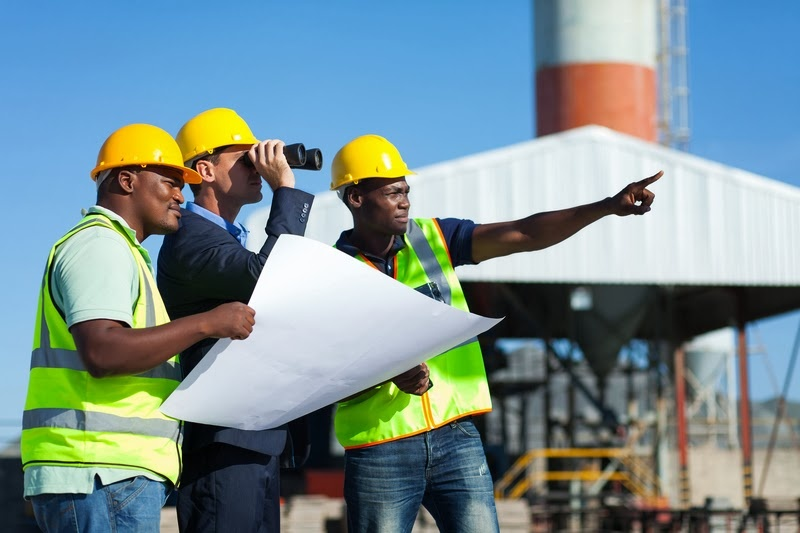yellow: (90, 122, 186, 240), (175, 109, 265, 211), (330, 133, 410, 234)
